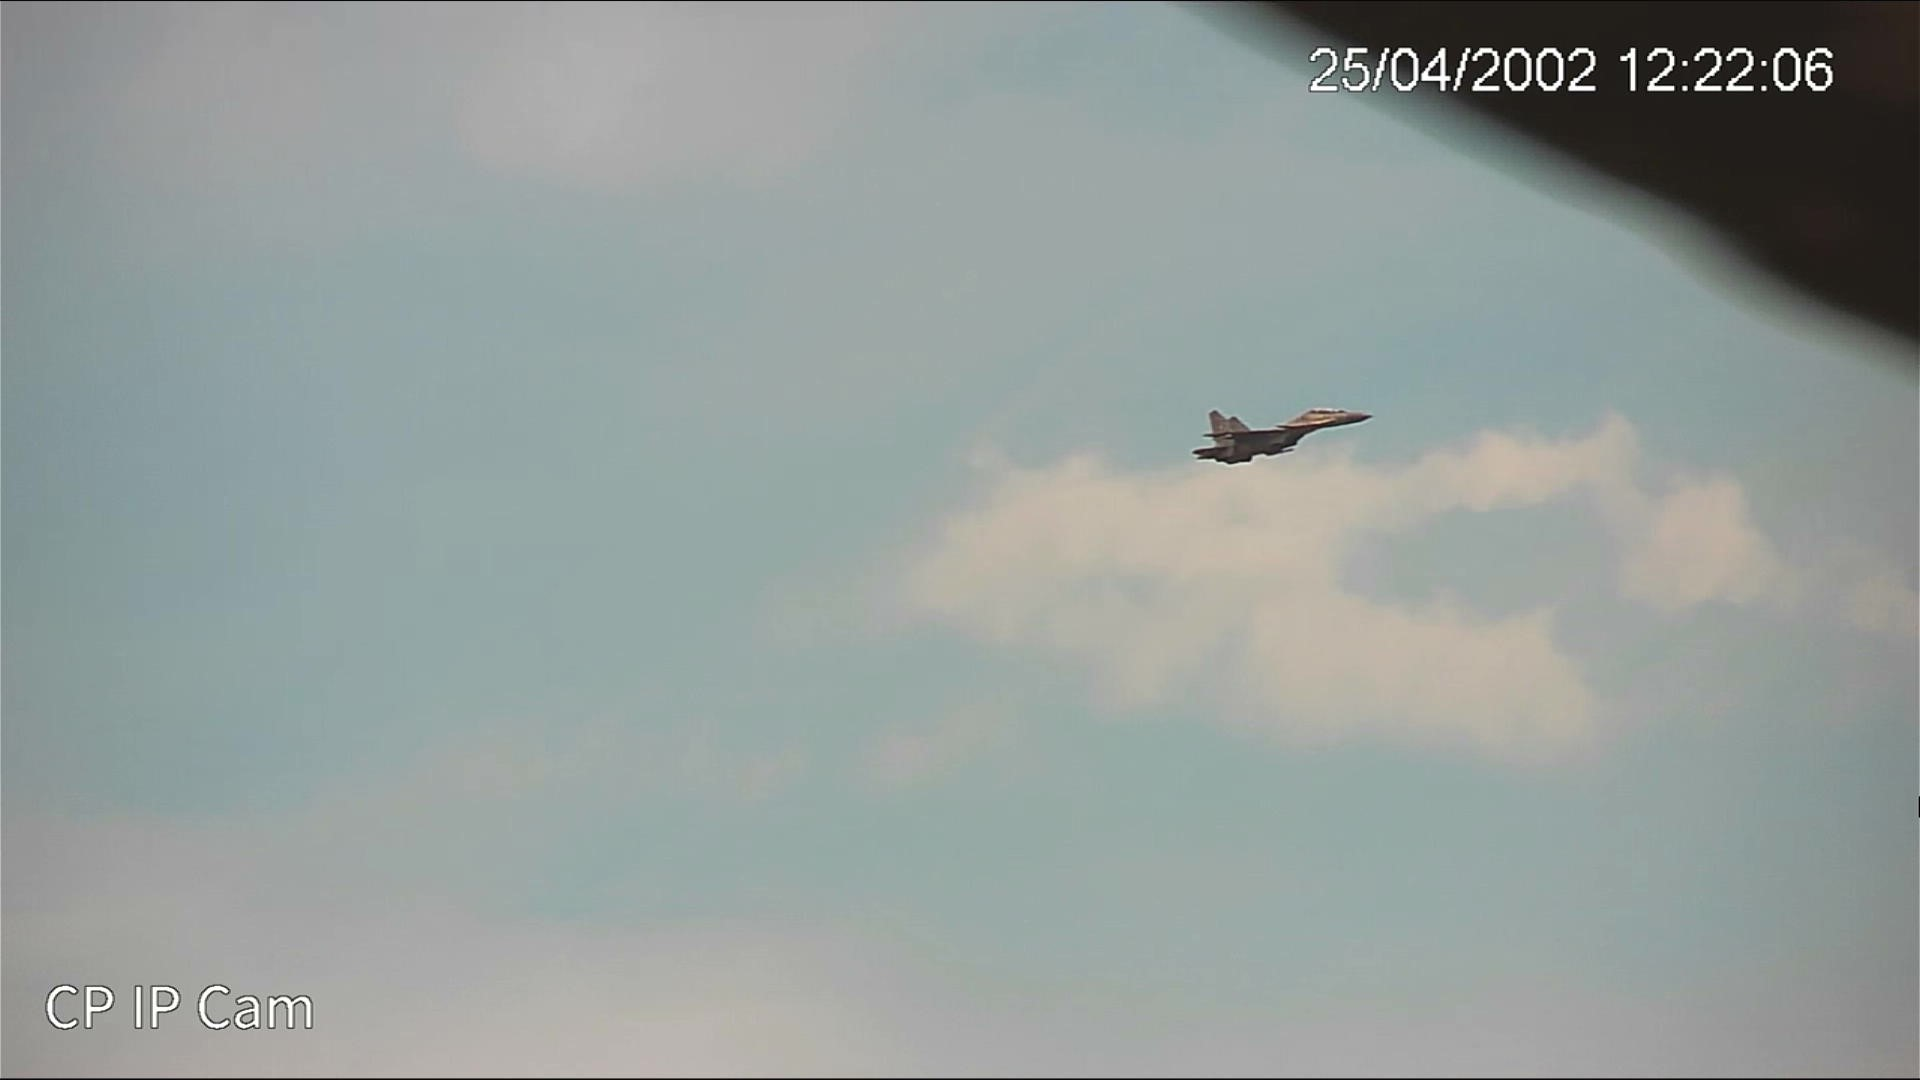SU_30: (1189, 398, 1367, 464)
